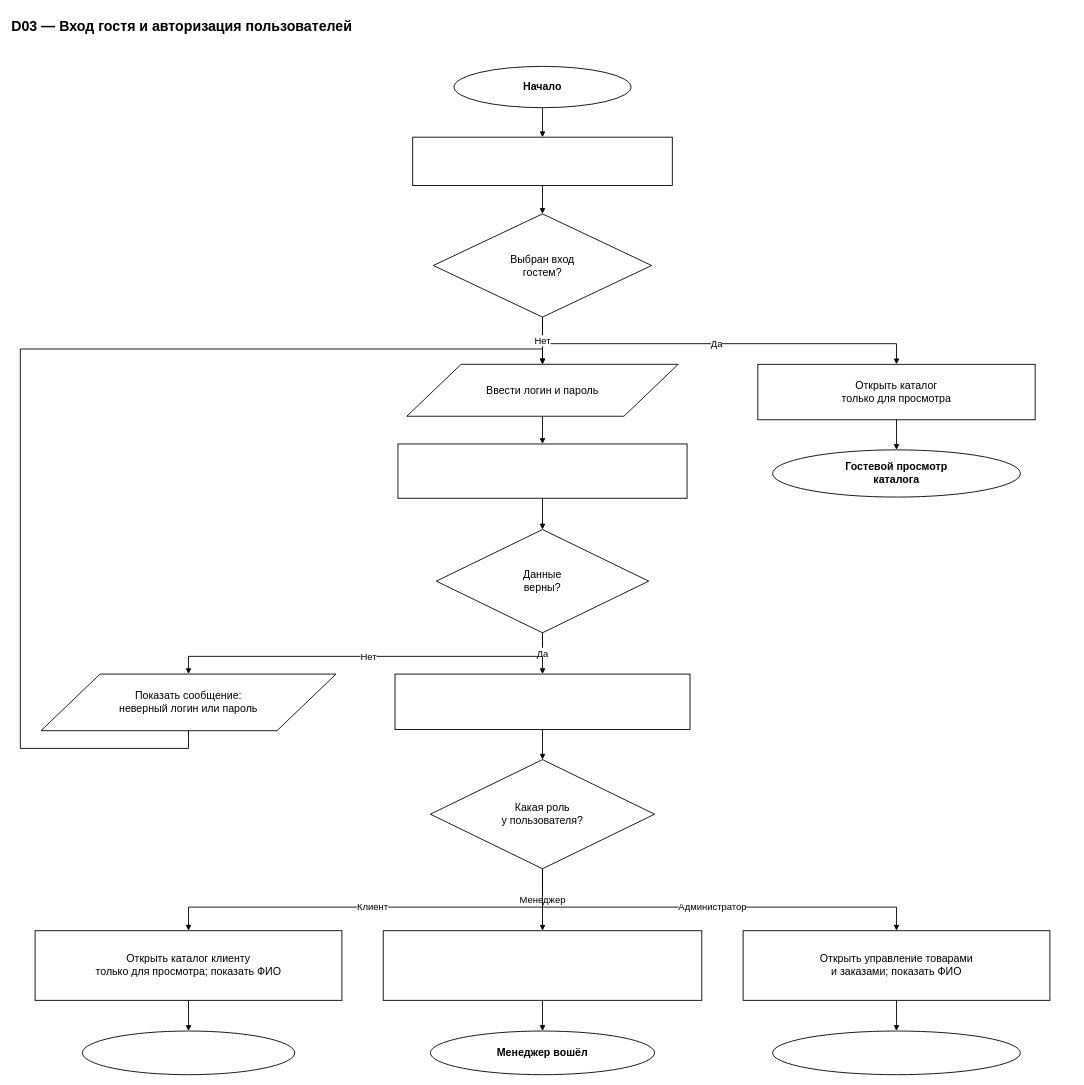
This 1084x1085 diagram has some shape labels left out. The centre of each missing label's shape, as x and y in pixels:
Администратор вошёл: point (896, 1052)
Клиент вошёл: point (188, 1052)
Найти пользователя в БД и проверить пароль: point (542, 470)
Определить роль пользователя и получить его ФИО: point (542, 701)
Открыть каталог с поиском, фильтрами и заказами; показать ФИО: point (542, 965)
Показать окно входа: point (542, 161)
